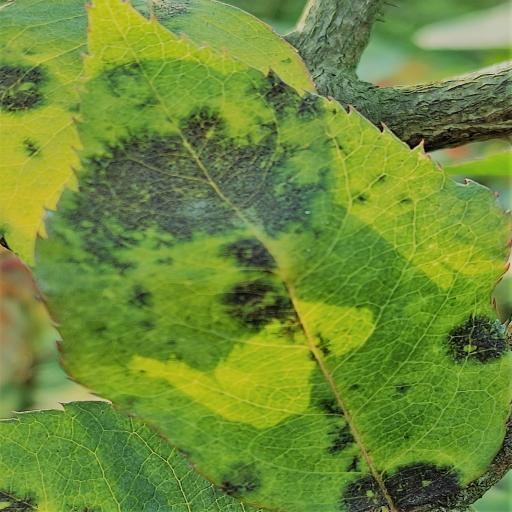black_spot: (35, 0, 512, 512), (0, 401, 263, 512), (0, 0, 86, 262), (132, 0, 315, 92)
